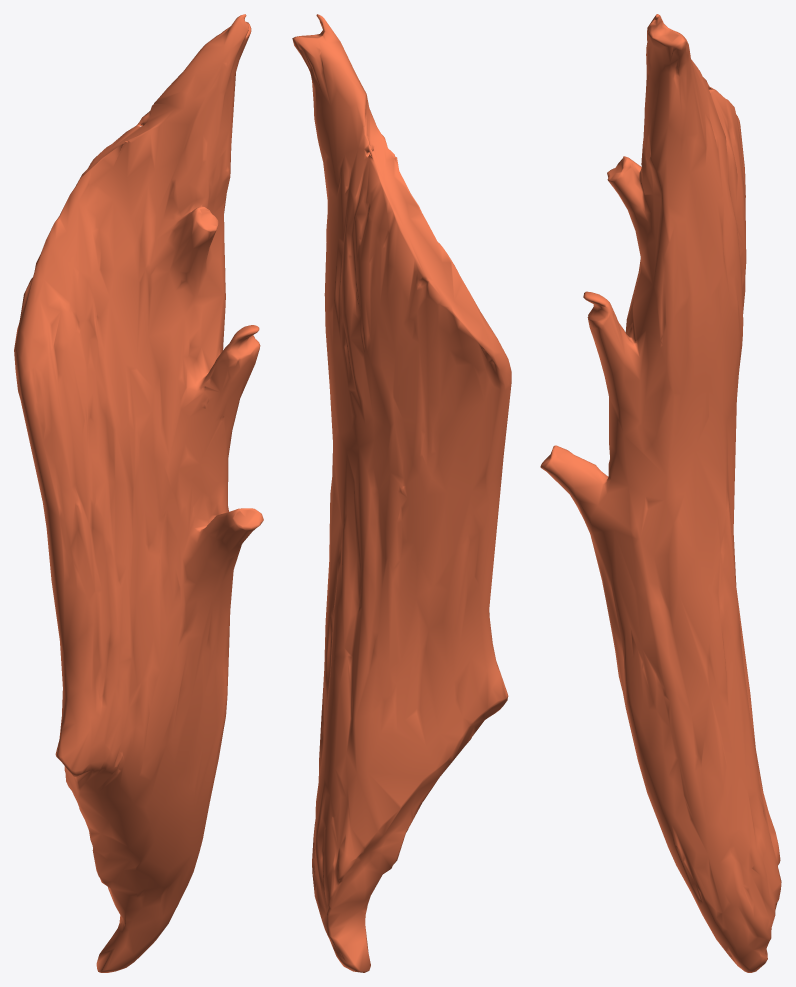
The model's file is Quadratus_lumborum_muscle.r_Generated_Mesh_From_X3D.255.glb.
3 views of the same model, side by side, from view 1: azimuth 30°, elevation 25°; view 2: azimuth 150°, elevation 25°; view 3: azimuth 270°, elevation 25° (orthographic). The views are drawn at different scales.
Parts seen in each view (by area): view 1: Quadratus_lumborum_muscle.r_Generated_Mesh_From_X3D.255; view 2: Quadratus_lumborum_muscle.r_Generated_Mesh_From_X3D.255; view 3: Quadratus_lumborum_muscle.r_Generated_Mesh_From_X3D.255.
Boxes of the visible parts, x1,y1,x2,y2 form: Quadratus_lumborum_muscle.r_Generated_Mesh_From_X3D.255: (14,14,263,972); Quadratus_lumborum_muscle.r_Generated_Mesh_From_X3D.255: (292,14,511,972); Quadratus_lumborum_muscle.r_Generated_Mesh_From_X3D.255: (540,14,781,972).
Bounding box in the file's own units: 0.0514 × 0.2064 × 0.0452.
